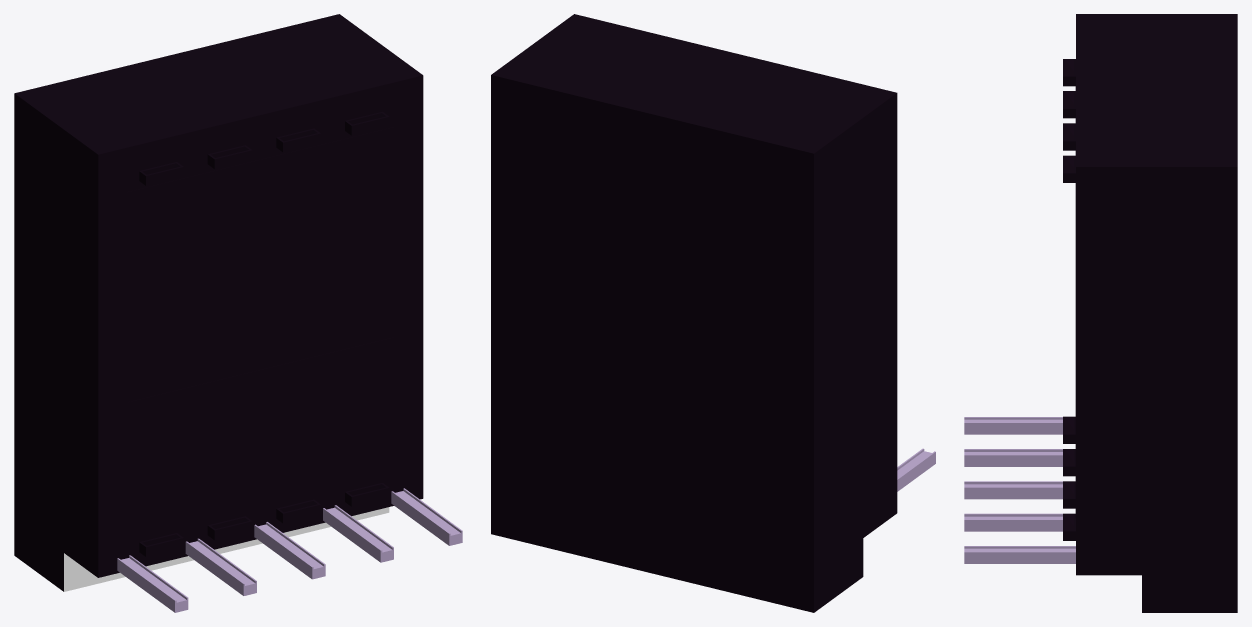
Rendered from trial.dae.
3 renders of one model, left to right at view 1: azimuth 30°, elevation 25°; view 2: azimuth 150°, elevation 25°; view 3: azimuth 270°, elevation 25°, orthographic. The views are drawn at different scales.
Visible parts, largest first — view 1: ID2; view 2: ID2; view 3: ID2.
Boxes of the visible parts, x1,y1,x2,y2 form: ID2: (14,14,462,612); ID2: (491,14,935,612); ID2: (964,14,1237,612).
Bounding box in the file's own units: 1.38 × 1.04 × 1.87.
Materials: 3 (1 with a texture image).
